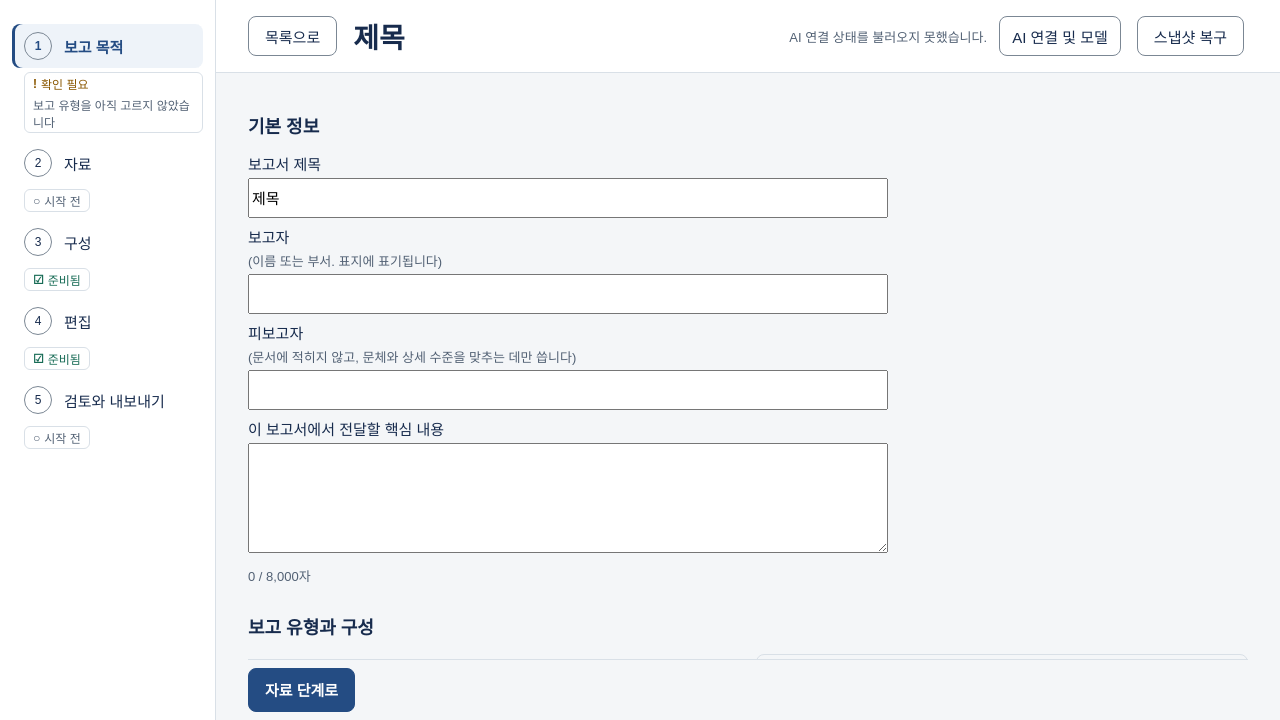
서버의 내보내기 거절은 오류로 표시하고 성공 경로를 표시하지 않는다
Click the button "5 검토와 내보내기". click: point(108, 400)
box: [12,378,203,422]
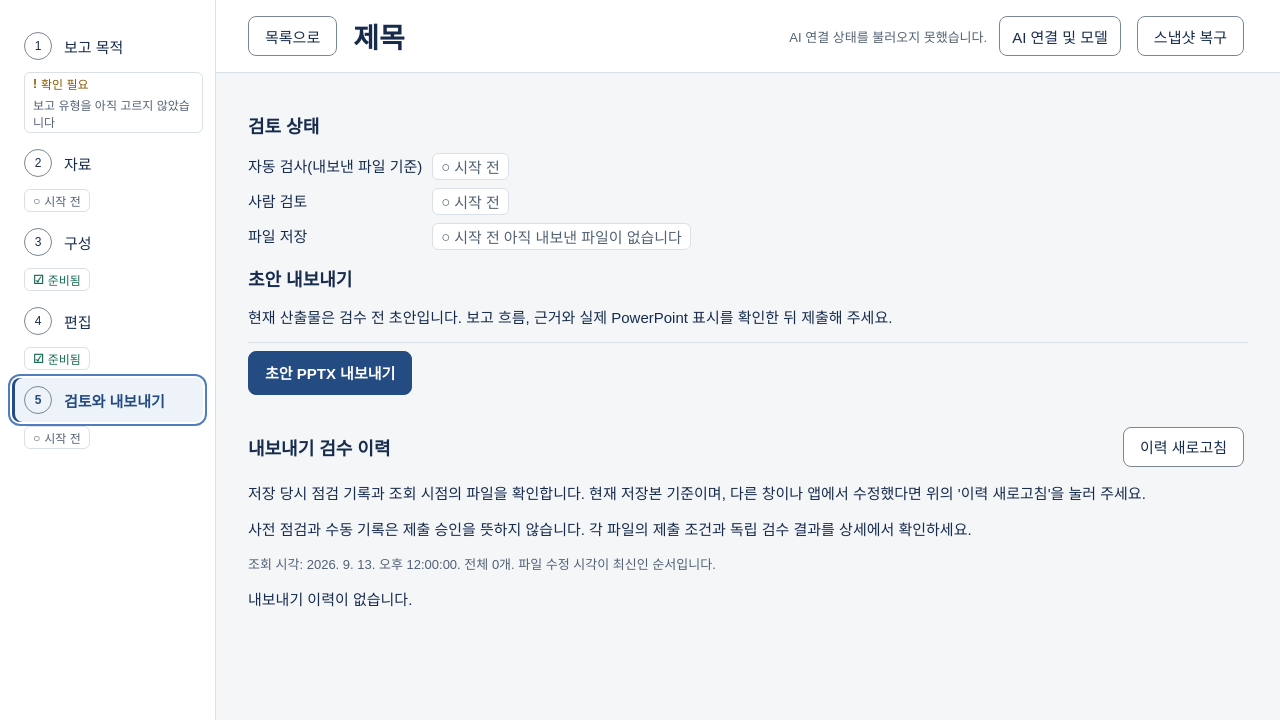
Click the button "초안 PPTX 내보내기". click: point(330, 373)
box: [248,351,412,395]
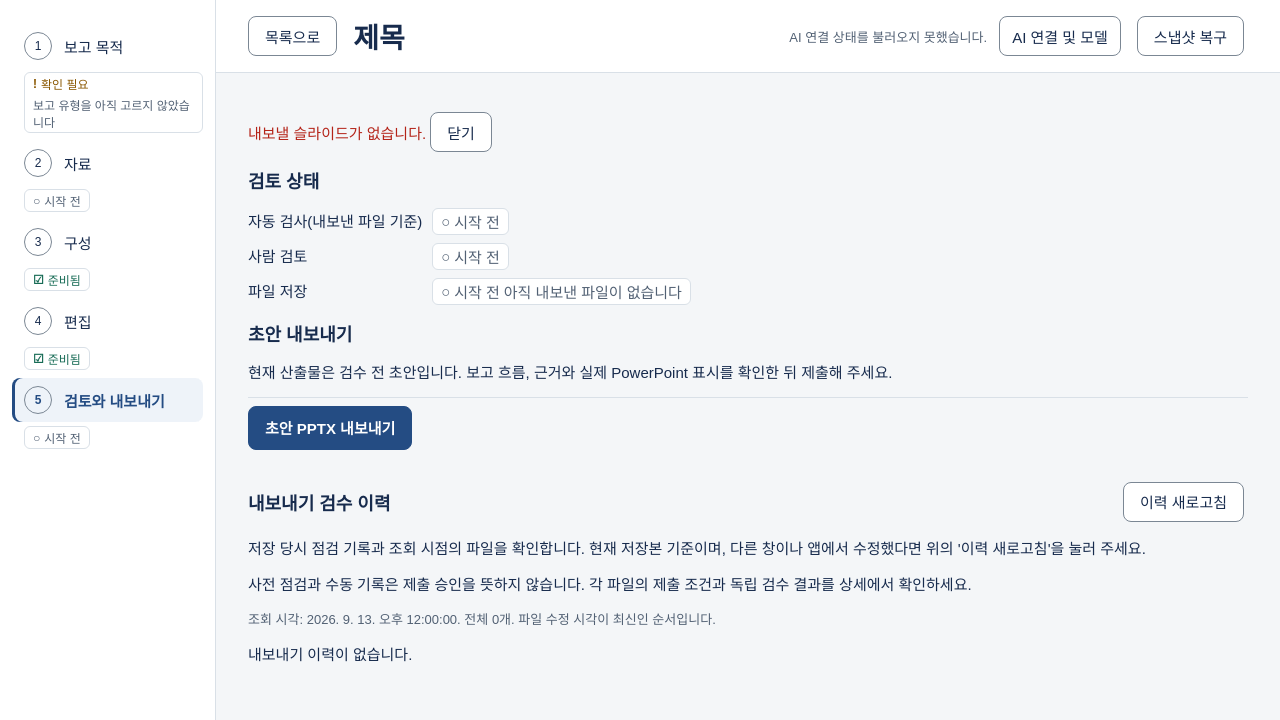
Expected: the text "현재 산출물은 검수 전 초안입니다" is shown, [248,364,892,381]
Expected: the message shows "내보낼 슬라이드가 없습니다", [248,124,426,142]
